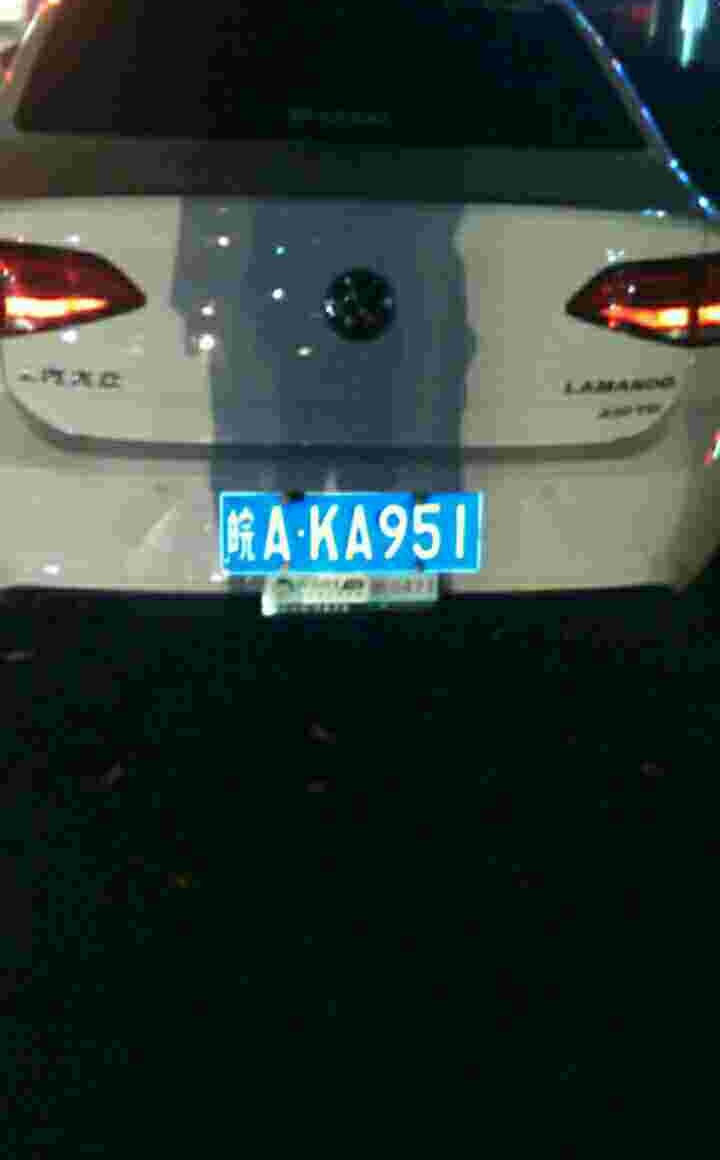license_plate: (220, 487, 470, 587)
